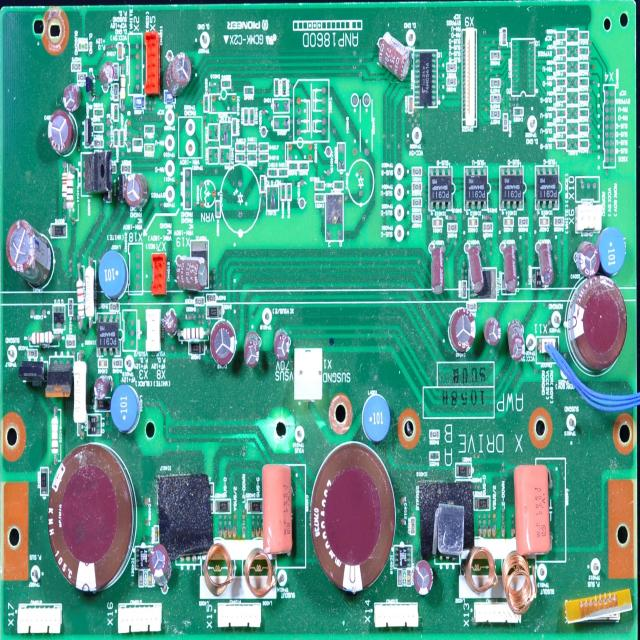Capacitor Jumper: (312, 445, 396, 593), (50, 447, 130, 590), (572, 278, 628, 372), (262, 466, 296, 549), (6, 221, 51, 282), (378, 33, 412, 93), (47, 112, 77, 156), (210, 320, 237, 366), (166, 56, 195, 95), (452, 309, 477, 354), (176, 255, 208, 290), (349, 160, 373, 204), (123, 171, 149, 210), (500, 240, 520, 290), (507, 320, 531, 361), (431, 245, 448, 297), (468, 244, 484, 294), (576, 242, 600, 275), (150, 545, 172, 580), (244, 330, 264, 368), (414, 561, 435, 595), (538, 240, 553, 285), (274, 324, 290, 360), (64, 82, 83, 111), (484, 318, 503, 346), (94, 373, 111, 400), (162, 309, 178, 336), (99, 61, 114, 86), (400, 496, 405, 524), (406, 569, 412, 586), (138, 571, 144, 587), (98, 359, 108, 368), (268, 169, 278, 177), (334, 182, 344, 190), (315, 194, 325, 202), (468, 218, 478, 226), (274, 80, 279, 95), (145, 144, 154, 152), (504, 218, 513, 226), (398, 570, 402, 587), (204, 95, 208, 112), (120, 130, 124, 147), (148, 570, 152, 586), (409, 96, 413, 112), (133, 139, 142, 146), (434, 220, 442, 227), (514, 109, 523, 115), (540, 219, 548, 225)
Connector: (461, 29, 477, 128), (17, 604, 62, 634), (118, 604, 162, 633), (374, 603, 420, 629), (217, 603, 262, 627), (144, 32, 160, 94), (475, 603, 521, 623), (128, 34, 142, 96), (128, 244, 143, 294), (577, 205, 601, 232), (536, 337, 558, 364), (152, 253, 166, 294), (146, 309, 160, 350)
IC: (156, 476, 212, 560), (419, 481, 475, 560), (512, 39, 536, 97), (414, 51, 437, 108), (535, 166, 559, 210), (464, 167, 488, 211), (500, 166, 524, 209), (97, 314, 119, 356), (429, 168, 452, 208), (394, 545, 412, 568), (135, 547, 150, 568), (266, 187, 278, 210), (88, 414, 100, 435), (532, 268, 544, 288), (192, 242, 208, 256)
Resistor Jumper: (73, 352, 87, 425), (62, 163, 76, 222), (51, 408, 61, 460), (85, 264, 94, 319), (76, 264, 85, 319), (28, 331, 60, 345), (178, 327, 207, 340), (120, 64, 126, 108), (446, 62, 457, 72), (221, 79, 231, 88), (113, 83, 118, 101), (93, 123, 103, 132), (259, 153, 269, 162), (278, 168, 288, 177), (68, 298, 73, 316), (28, 349, 38, 358), (113, 358, 122, 368), (113, 63, 118, 80), (72, 62, 81, 71), (77, 74, 87, 82), (232, 119, 237, 135), (247, 144, 257, 152), (462, 281, 467, 297), (503, 115, 508, 130), (447, 78, 456, 86), (94, 109, 103, 117), (491, 110, 500, 118), (94, 139, 103, 147), (236, 143, 245, 151), (259, 143, 268, 151), (216, 200, 220, 218), (195, 297, 204, 305), (110, 304, 119, 312), (430, 452, 439, 460), (288, 163, 298, 170), (207, 295, 217, 302), (118, 43, 122, 60), (114, 104, 118, 121), (411, 518, 415, 534), (282, 79, 286, 95), (244, 108, 248, 124), (114, 130, 118, 146), (248, 154, 256, 162), (287, 184, 291, 200), (555, 218, 563, 226), (579, 80, 588, 87), (491, 80, 500, 87), (491, 96, 500, 103), (579, 125, 588, 132), (580, 140, 589, 147), (412, 184, 421, 191), (519, 218, 528, 225), (483, 223, 492, 230), (66, 340, 75, 347), (430, 431, 439, 438), (556, 48, 566, 54), (250, 109, 254, 124), (281, 184, 285, 199), (502, 29, 506, 44), (580, 63, 588, 70), (580, 94, 588, 101), (300, 163, 308, 170), (413, 168, 421, 175), (316, 182, 324, 189), (579, 48, 588, 54), (557, 79, 566, 85), (244, 88, 253, 94), (579, 110, 588, 116), (579, 32, 588, 38), (557, 33, 566, 39), (491, 52, 499, 58), (557, 95, 565, 101), (557, 110, 565, 116), (557, 142, 566, 147), (557, 64, 565, 69), (558, 127, 566, 132), (413, 200, 421, 205), (413, 215, 421, 220), (448, 226, 457, 230)
Transistor: (511, 460, 556, 556), (83, 152, 111, 195), (53, 306, 65, 330)
